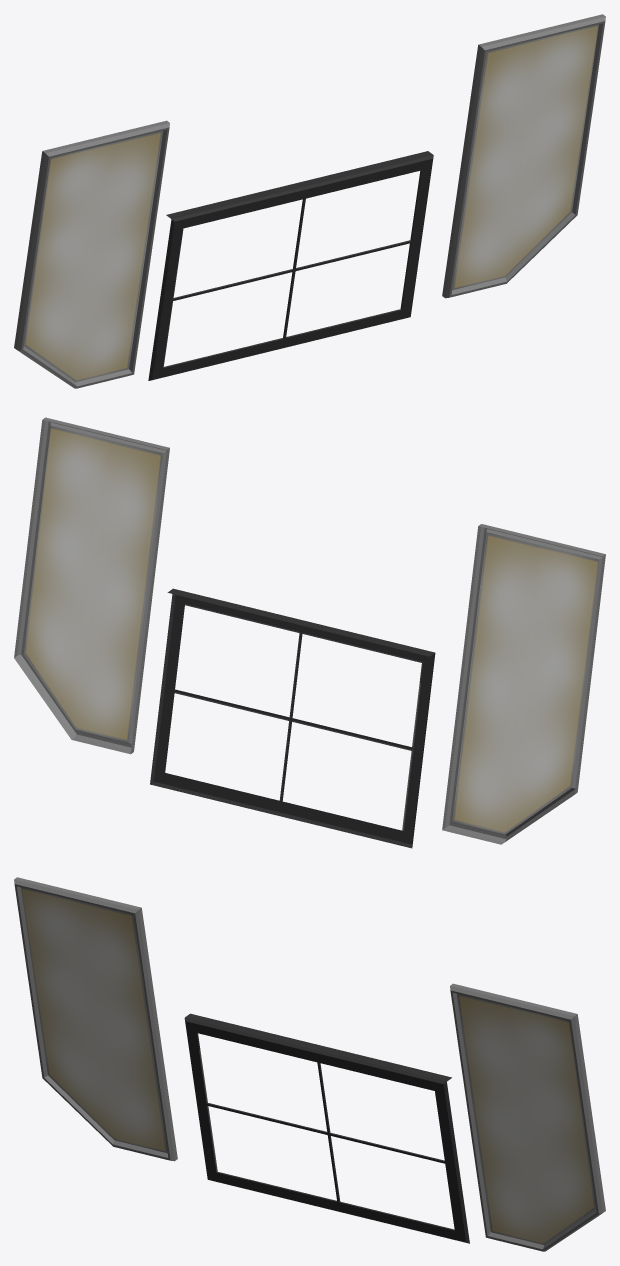
Rendered from AtriumDecor_Asset_01_.fbx.
3 renders of one model, top to bottom at view 1: azimuth 30°, elevation 25°; view 2: azimuth 150°, elevation 25°; view 3: azimuth 330°, elevation 25°, orthographic.
Parts seen in each view (by area): view 1: AtriumDecor_Asset_01_; view 2: AtriumDecor_Asset_01_; view 3: AtriumDecor_Asset_01_.
Part boxes in pixels (box(x1,y1,x2,y2)): AtriumDecor_Asset_01_: box(14, 14, 605, 388); AtriumDecor_Asset_01_: box(14, 417, 605, 848); AtriumDecor_Asset_01_: box(14, 877, 605, 1251).
Size of the model in its own units: 1155 by 585 by 167.
Materials: 1 (1 with a texture image).
